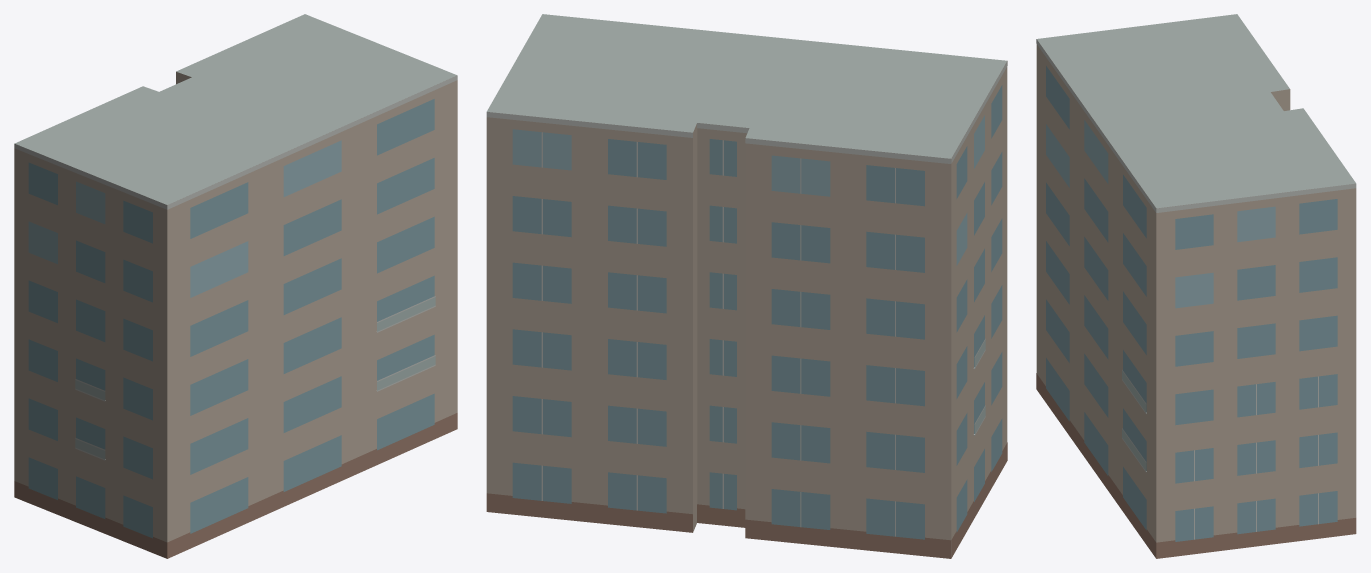
Rendered from survey-upis-32958926.glb.
3 views of the same model, side by side, from view 1: azimuth 30°, elevation 25°; view 2: azimuth 150°, elevation 25°; view 3: azimuth 270°, elevation 25° (orthographic). The views are drawn at different scales.
Parts seen in each view (by area): view 1: survey-upis-32958926.tmp; view 2: survey-upis-32958926.tmp; view 3: survey-upis-32958926.tmp.
Part boxes in pixels (x1,y1,x2,y2): survey-upis-32958926.tmp: (14,14,457,558); survey-upis-32958926.tmp: (486,14,1007,558); survey-upis-32958926.tmp: (1036,14,1356,558).
Size of the model in its own units: 21.79 by 18.3 by 15.15.
